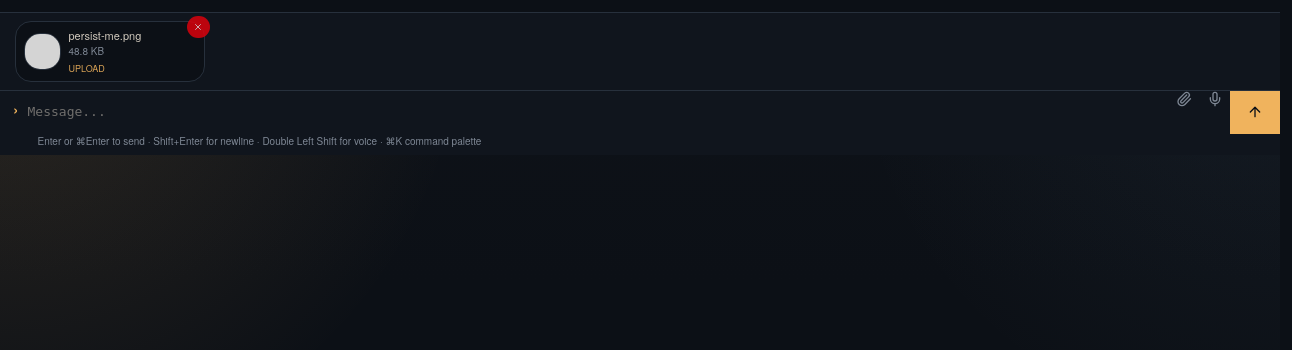
Test case: InputBar ArrowUp behavior › recalls history when caret is already at start on single-line input
Type "current draft" into the text box named "Message input" at (593, 112), box left=18, top=91, right=1168, bottom=134
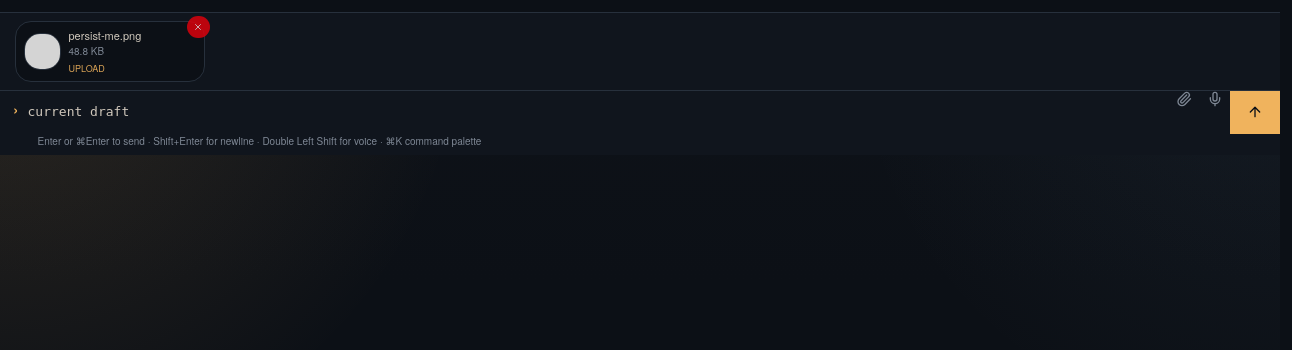
Press ArrowUp in the text box named "Message input", box left=18, top=91, right=1168, bottom=134
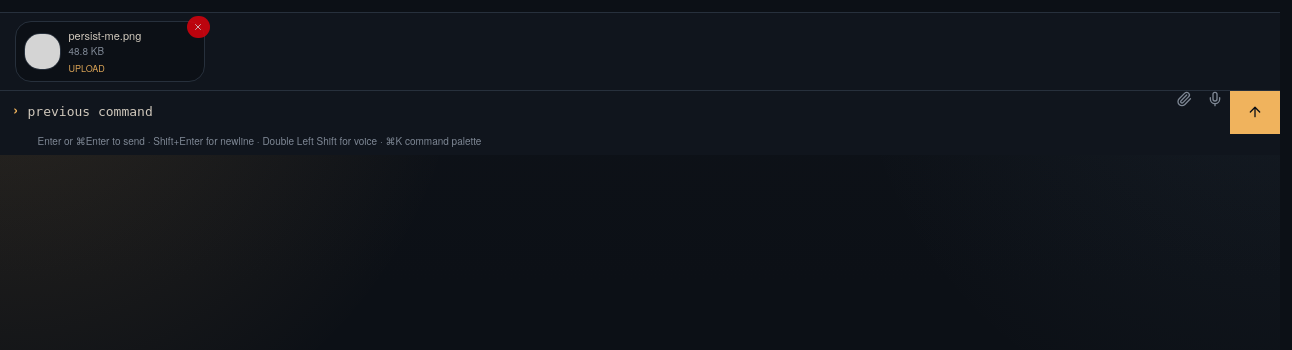
Expected: the text box named "Message input" holds "previous command", left=18, top=91, right=1168, bottom=134
